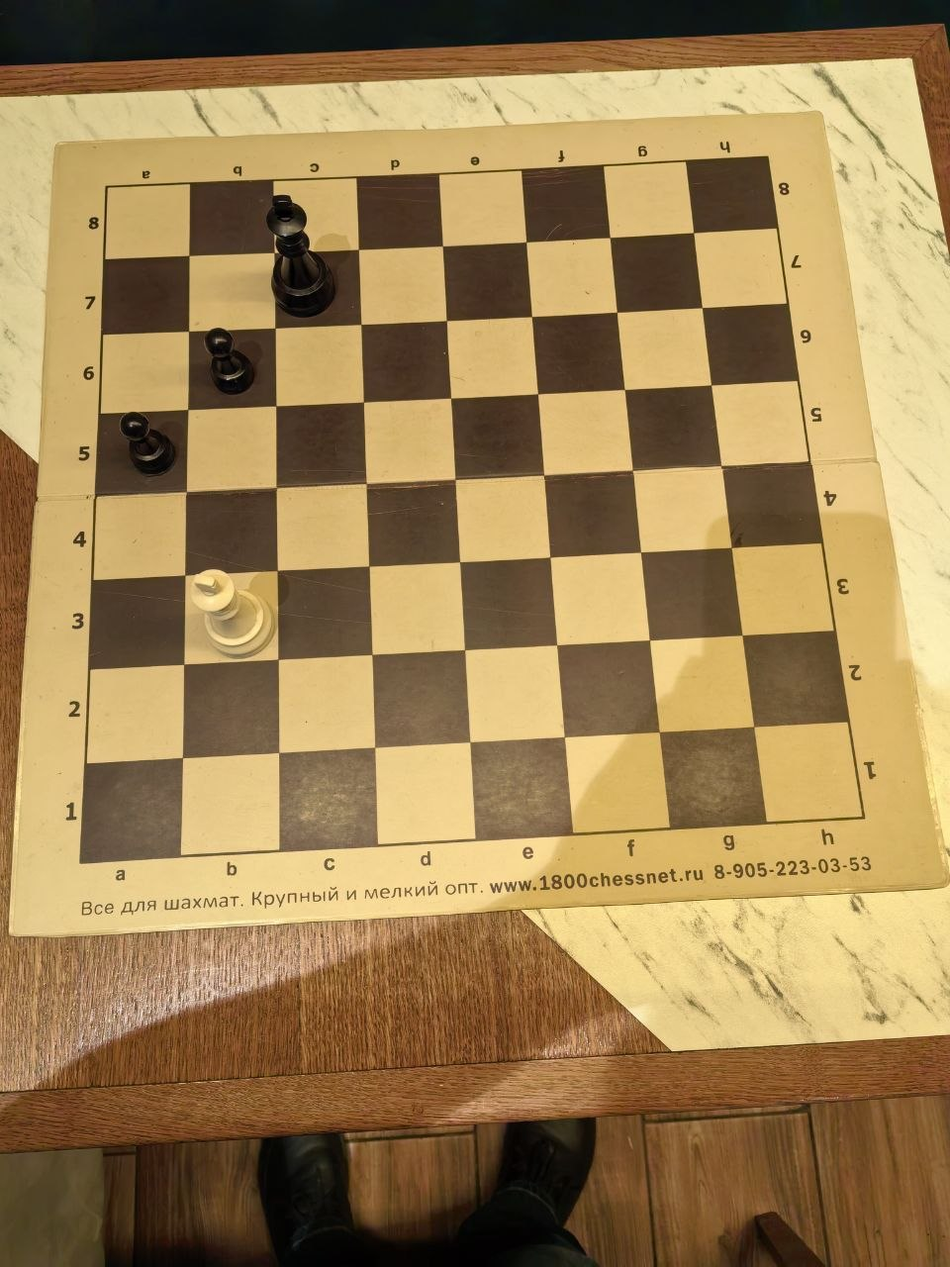black-bishop: (119, 792, 238, 950)
white-bishop: (238, 158, 356, 317)
white-rook: (119, 317, 238, 475)
